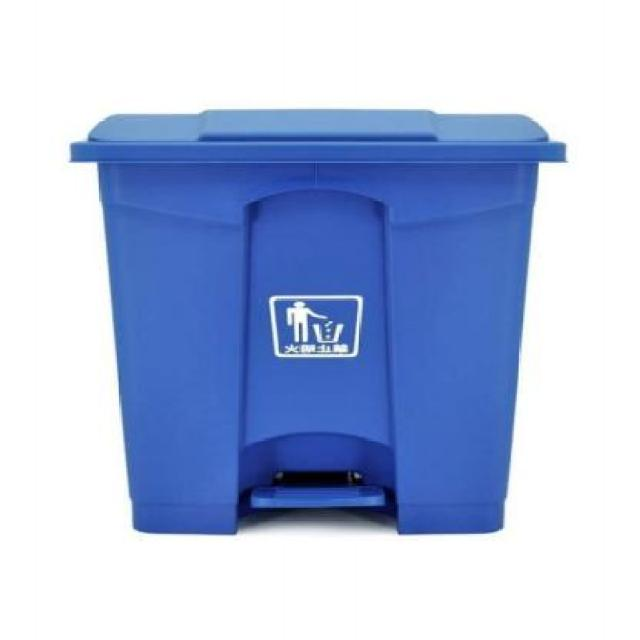garbage container: (36, 95, 573, 557)
